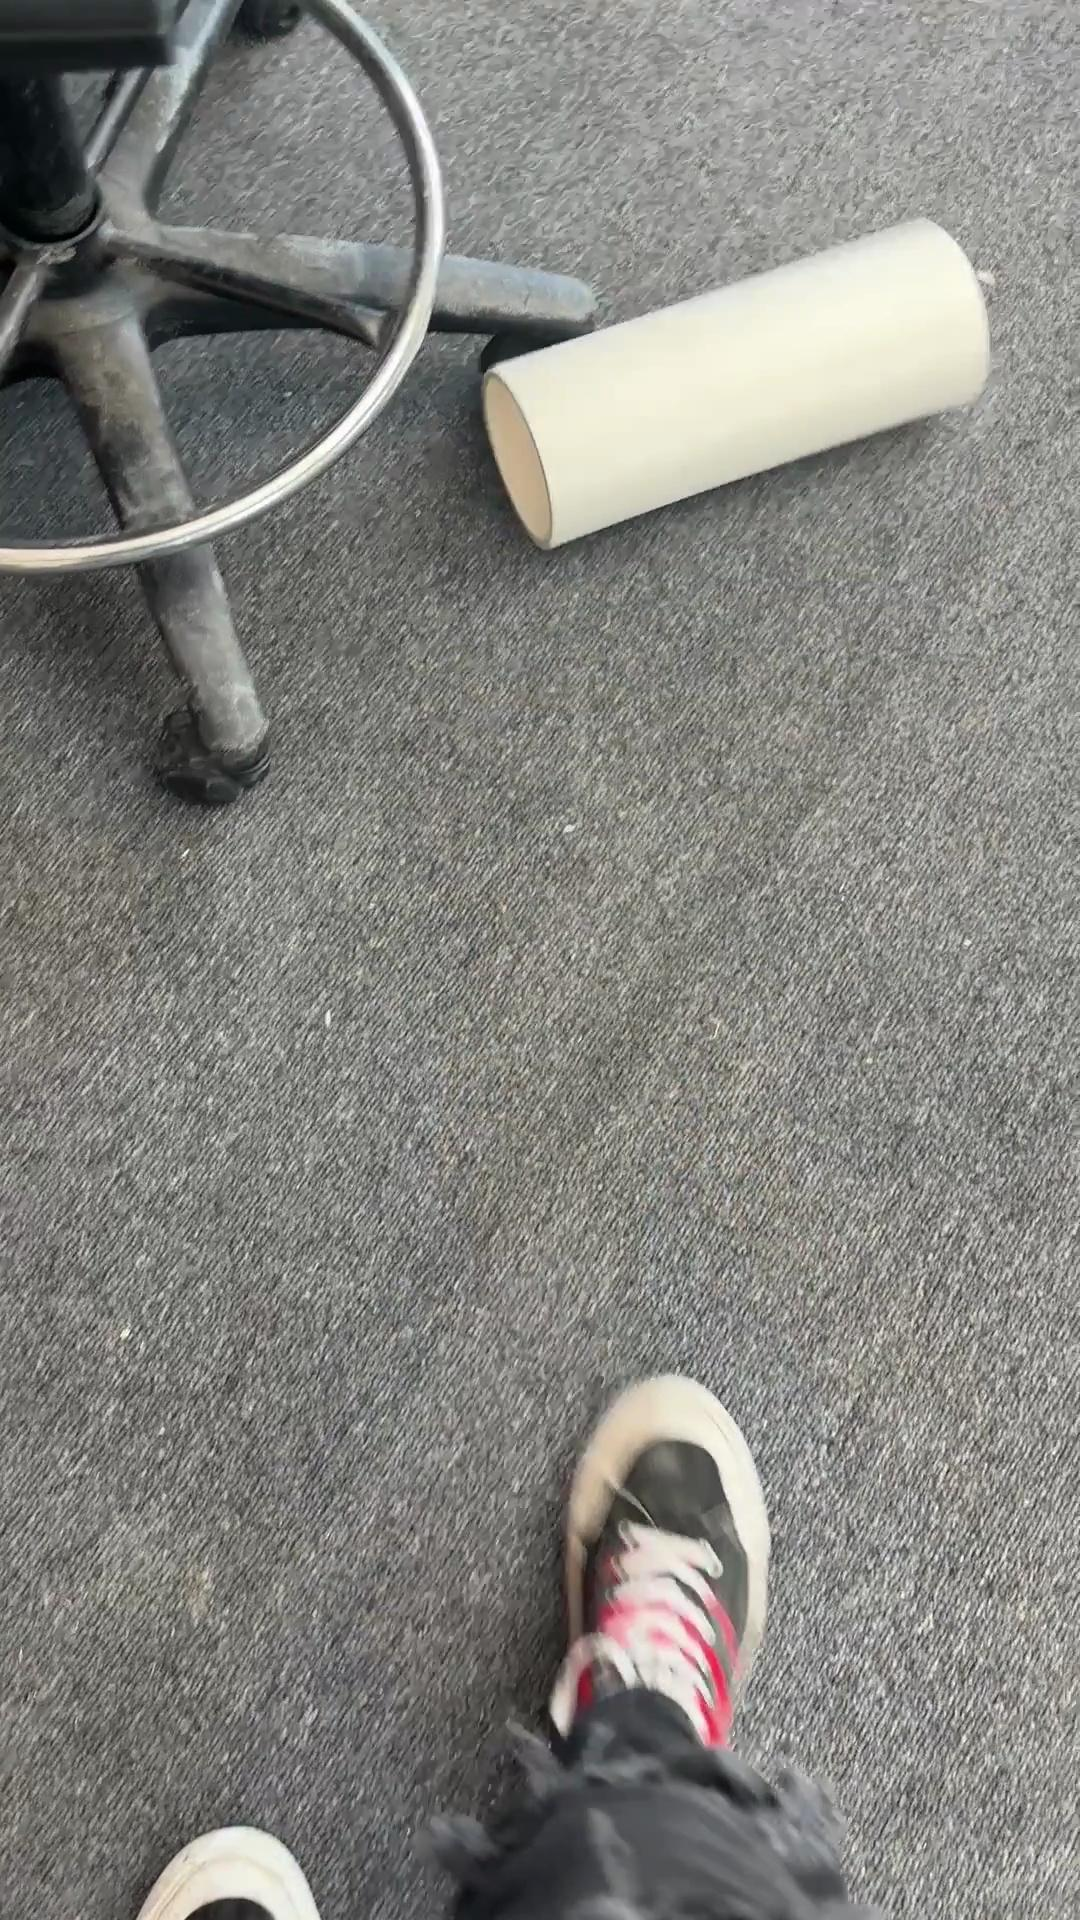CORAL: (477, 214, 992, 553)
